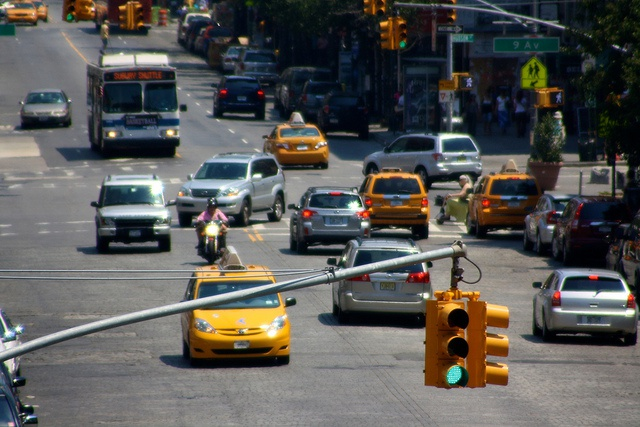non-vehicle: (191, 214, 227, 265), (434, 193, 472, 225)
